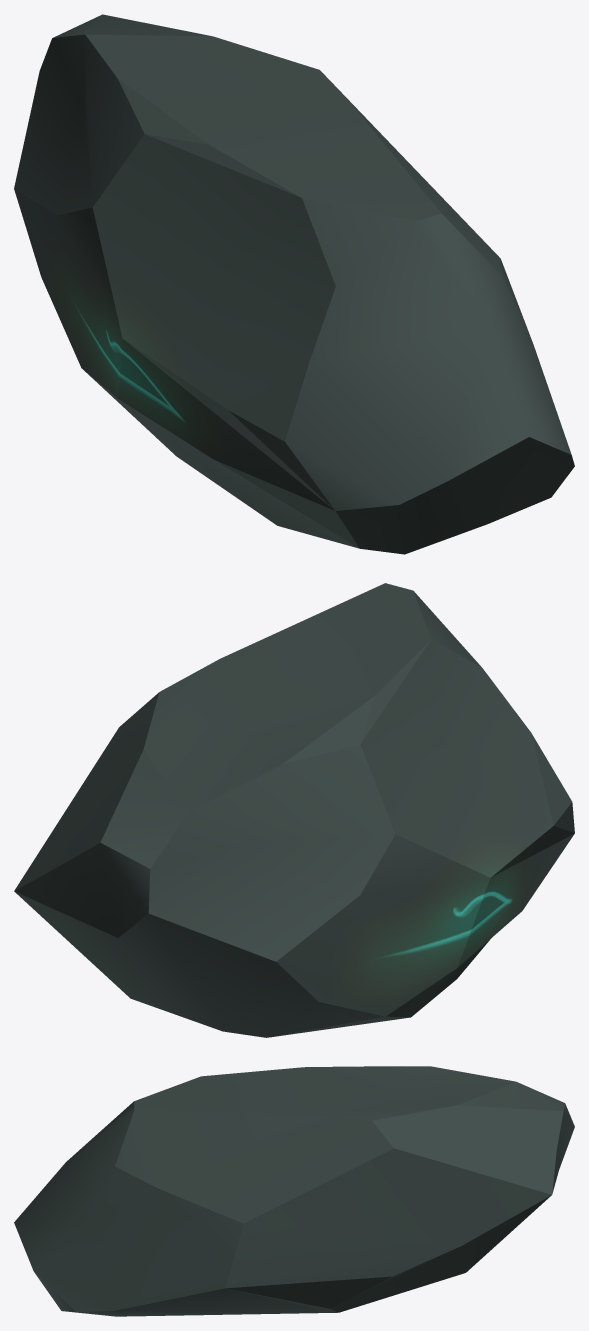
File: Rock_Base_3.FBX
3 renders of one model, top to bottom at view 1: azimuth 30°, elevation 25°; view 2: azimuth 150°, elevation 25°; view 3: azimuth 270°, elevation 25°, orthographic. The views are drawn at different scales.
Parts seen in each view (by area): view 1: GeoSphere003; view 2: GeoSphere003; view 3: GeoSphere003.
Boxes of the visible parts, <box> form: GeoSphere003: <box>14,14,574,554</box>; GeoSphere003: <box>14,583,574,1037</box>; GeoSphere003: <box>14,1066,574,1316</box>.
Size of the model in its own units: 45.06 by 41.59 by 92.
